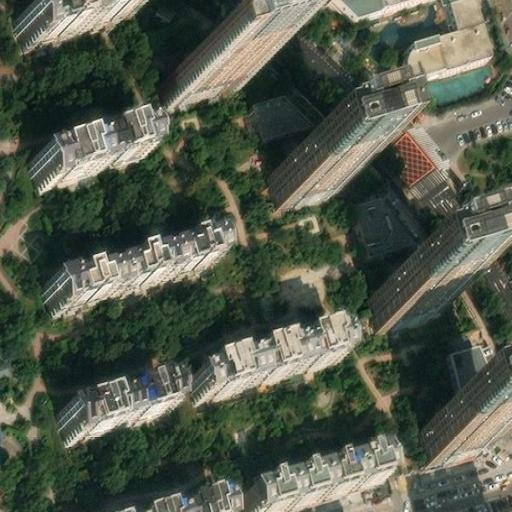building: (43, 235, 216, 311), (188, 329, 341, 400), (239, 448, 384, 512), (57, 378, 174, 441), (28, 129, 139, 189), (15, 0, 137, 47), (347, 187, 417, 264), (162, 46, 253, 102), (365, 271, 446, 330), (266, 148, 343, 207), (412, 404, 490, 459), (251, 87, 319, 135), (443, 341, 489, 409), (172, 495, 217, 512)
